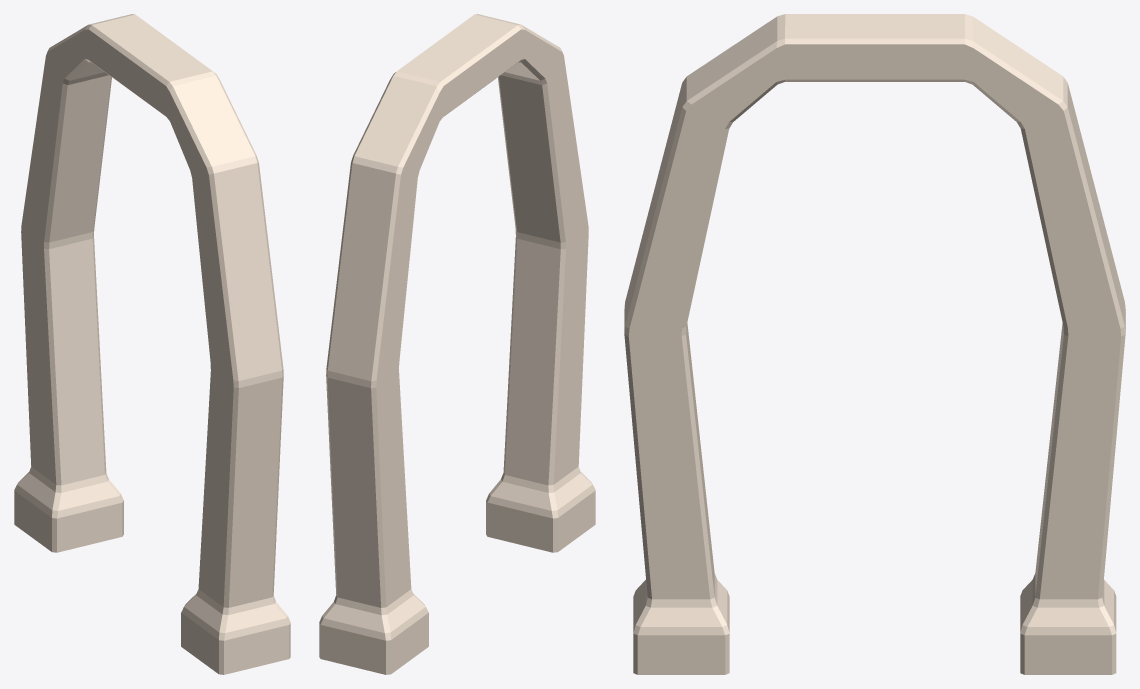
Rendered from checkpoint.fbx.
The picture shows the model from 3 angles, left to right: view 1: azimuth 30°, elevation 25°; view 2: azimuth 150°, elevation 25°; view 3: azimuth 270°, elevation 25°; orthographic projection. The views are drawn at different scales.
Visible parts, largest first — view 1: Cube; view 2: Cube; view 3: Cube.
Boxes of the visible parts, bbox=[...] form: Cube: bbox=[14, 14, 290, 674]; Cube: bbox=[319, 14, 595, 674]; Cube: bbox=[624, 14, 1125, 674].
Bounding box in the file's own units: 200 × 1442 × 1042.
